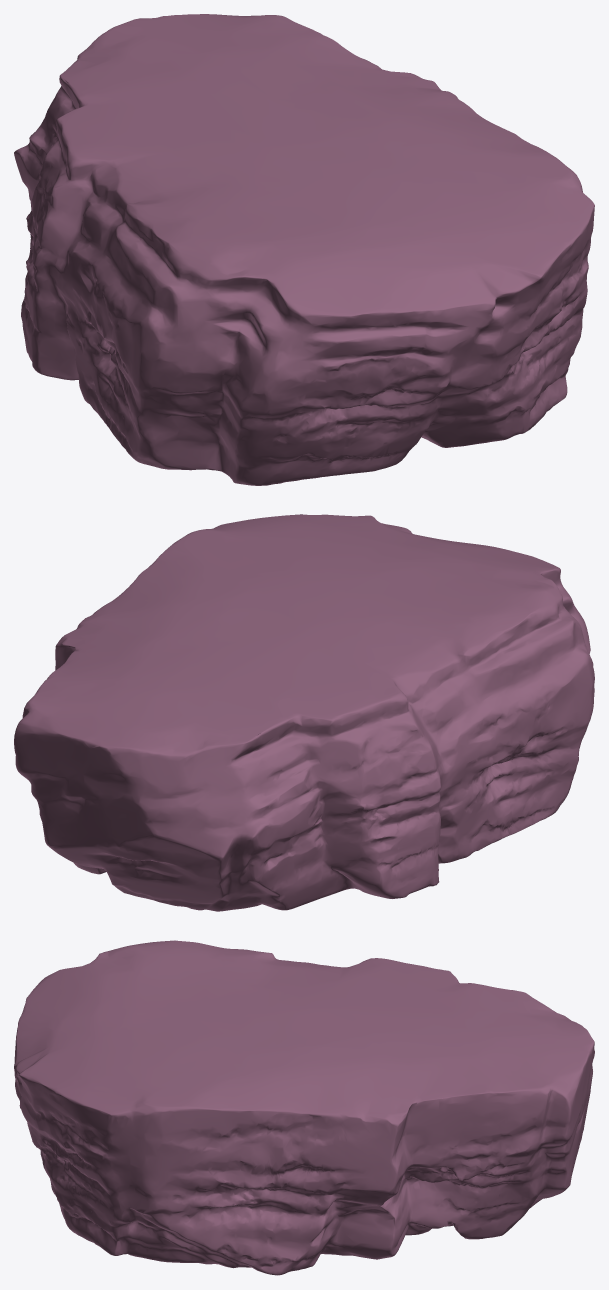
3 views of the same model, one above another, from view 1: azimuth 30°, elevation 25°; view 2: azimuth 150°, elevation 25°; view 3: azimuth 270°, elevation 25° (orthographic). The views are drawn at different scales.
Parts seen in each view (by area): view 1: SM_US_Cliff_01_Bottom_LOD0; view 2: SM_US_Cliff_01_Bottom_LOD0; view 3: SM_US_Cliff_01_Bottom_LOD0.
Part boxes in pixels (x1,y1,x2,y2): SM_US_Cliff_01_Bottom_LOD0: (14,14,594,485); SM_US_Cliff_01_Bottom_LOD0: (14,514,594,911); SM_US_Cliff_01_Bottom_LOD0: (14,940,594,1275).
Bounding box in the file's own units: 38.9 × 17.71 × 52.87.
